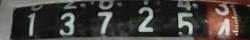digits: (175, 12, 194, 38), (137, 6, 153, 32), (58, 12, 75, 34), (97, 11, 112, 34), (216, 18, 230, 40), (27, 12, 36, 36)
